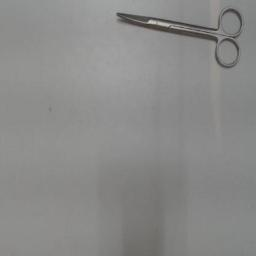Curved Mayo Scissors: (114, 4, 246, 72)
